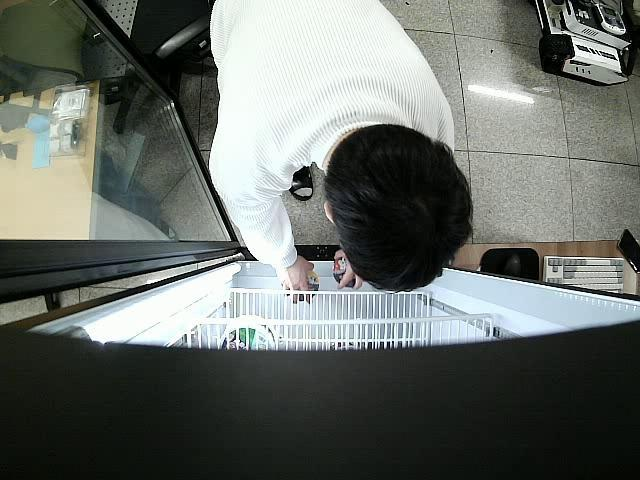08_buldak_S: (287, 266, 318, 299), (335, 254, 357, 286)
